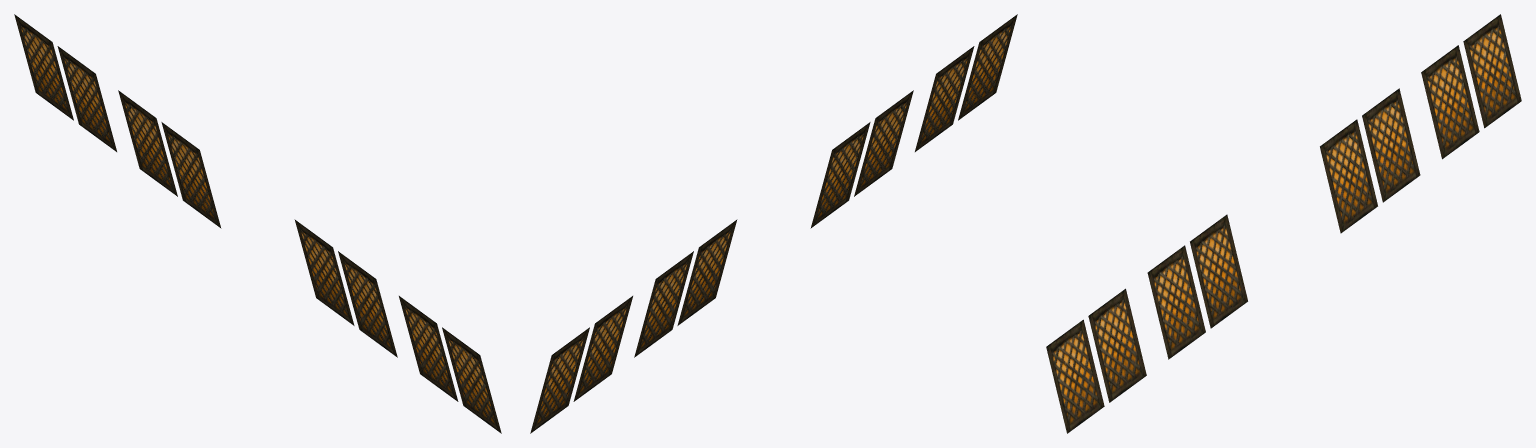
Rendered from LAKETOWN_EXTERIOR_PS_LT_WINDOWS1929.fbx.
The picture shows the model from 3 angles, left to right: view 1: azimuth 30°, elevation 25°; view 2: azimuth 150°, elevation 25°; view 3: azimuth 330°, elevation 25°; orthographic projection. The views are drawn at different scales.
Parts seen in each view (by area): view 1: LAKETOWN_EXTERIOR_PS_LT_WINDOWS1929; view 2: LAKETOWN_EXTERIOR_PS_LT_WINDOWS1929; view 3: LAKETOWN_EXTERIOR_PS_LT_WINDOWS1929.
Part boxes in pixels (x1,y1,x2,y2): LAKETOWN_EXTERIOR_PS_LT_WINDOWS1929: (14,14,501,433); LAKETOWN_EXTERIOR_PS_LT_WINDOWS1929: (530,14,1017,433); LAKETOWN_EXTERIOR_PS_LT_WINDOWS1929: (1046,14,1521,433).
Size of the model in its own units: 3391 by 12654 by 127161.
Materials: 1 (1 with a texture image).
